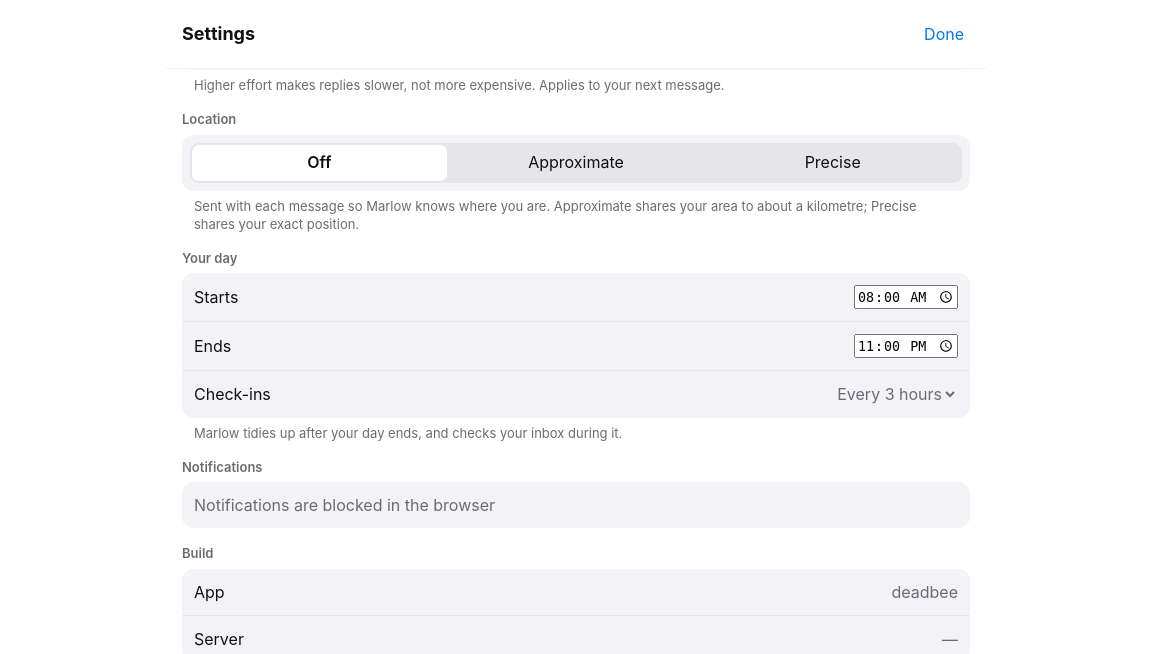
Test: Settings › Your day › a check-in change with no network reverts with the connection line
(page scrolled)
Select "Every hour" in the dropdown labelled "Check-ins" at coordinates (895, 394), box [832,383,958,405]
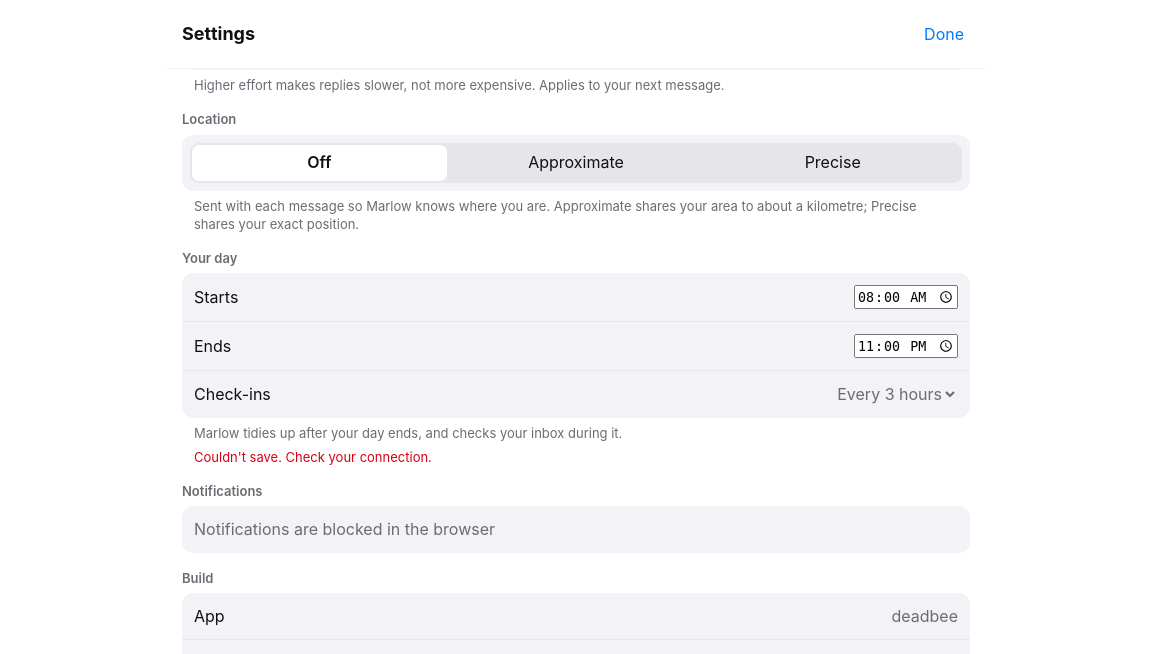
Expected: the message reads "Couldn't save. Check your connection.", [194,449,432,465]
